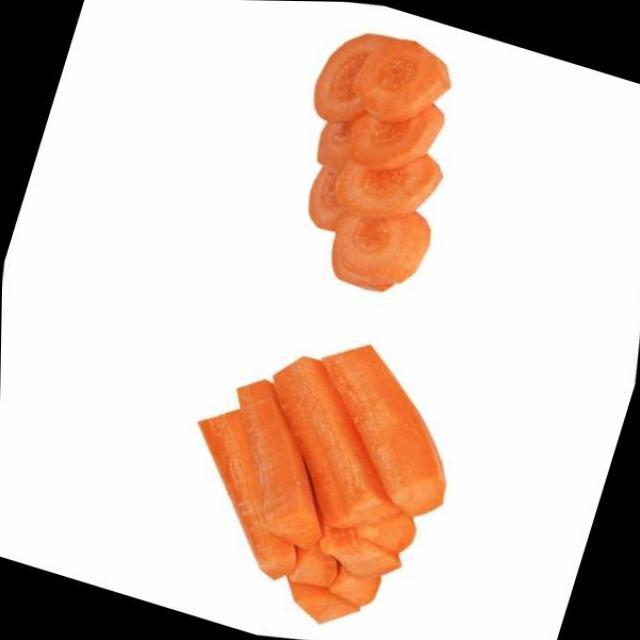carrot: (122, 278, 517, 640), (235, 0, 510, 331)
